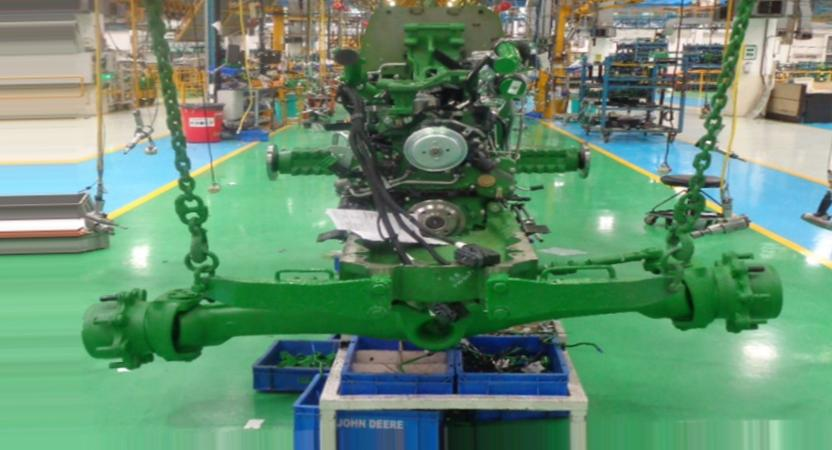engine: (79, 0, 784, 372)
